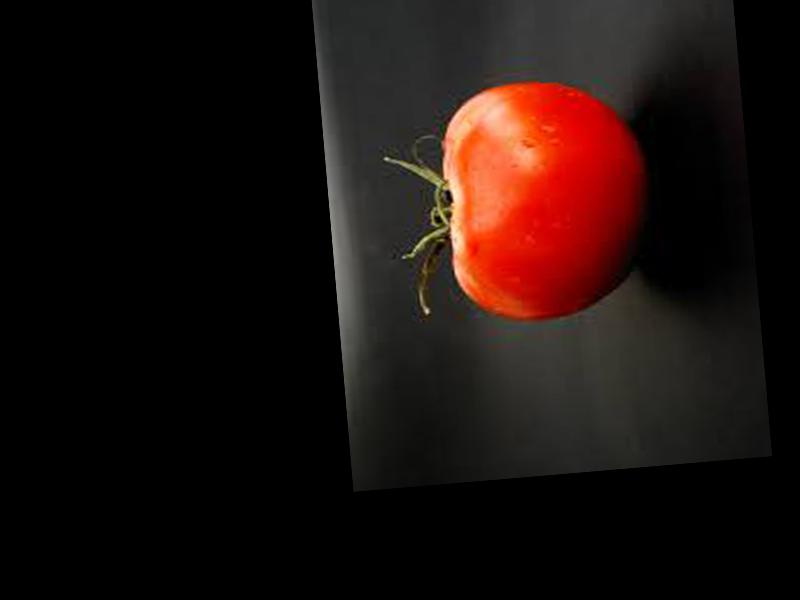Tomato: (436, 70, 656, 325)
